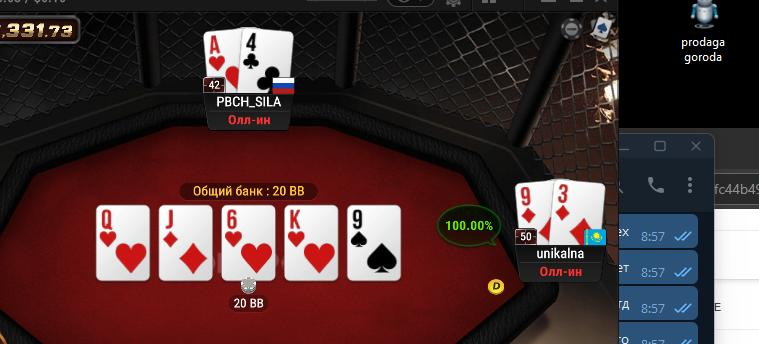3d: (552, 178, 606, 247)
4c: (239, 27, 294, 94)
6h: (222, 206, 274, 281)
9d: (516, 181, 553, 243)
9s: (348, 205, 399, 282)
Ah: (203, 29, 241, 93)
Jd: (160, 206, 212, 279)
Kh: (286, 206, 337, 281)
Qh: (96, 206, 148, 280)
